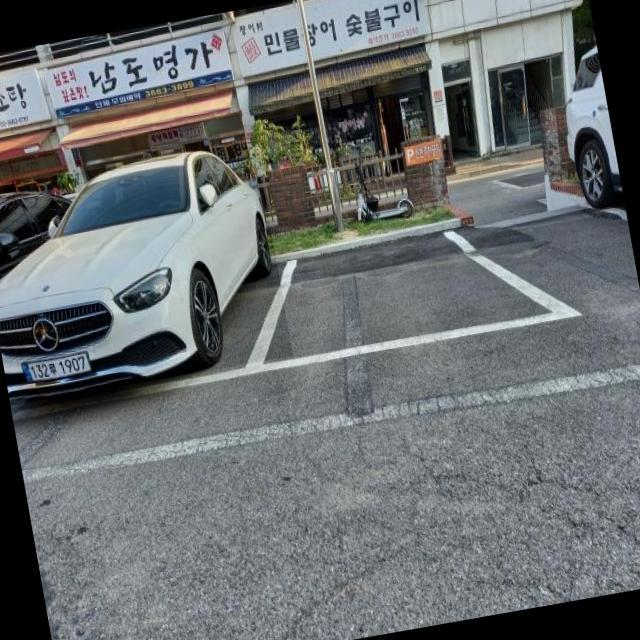empty: (274, 196, 528, 380)
occupied: (0, 140, 292, 405)
